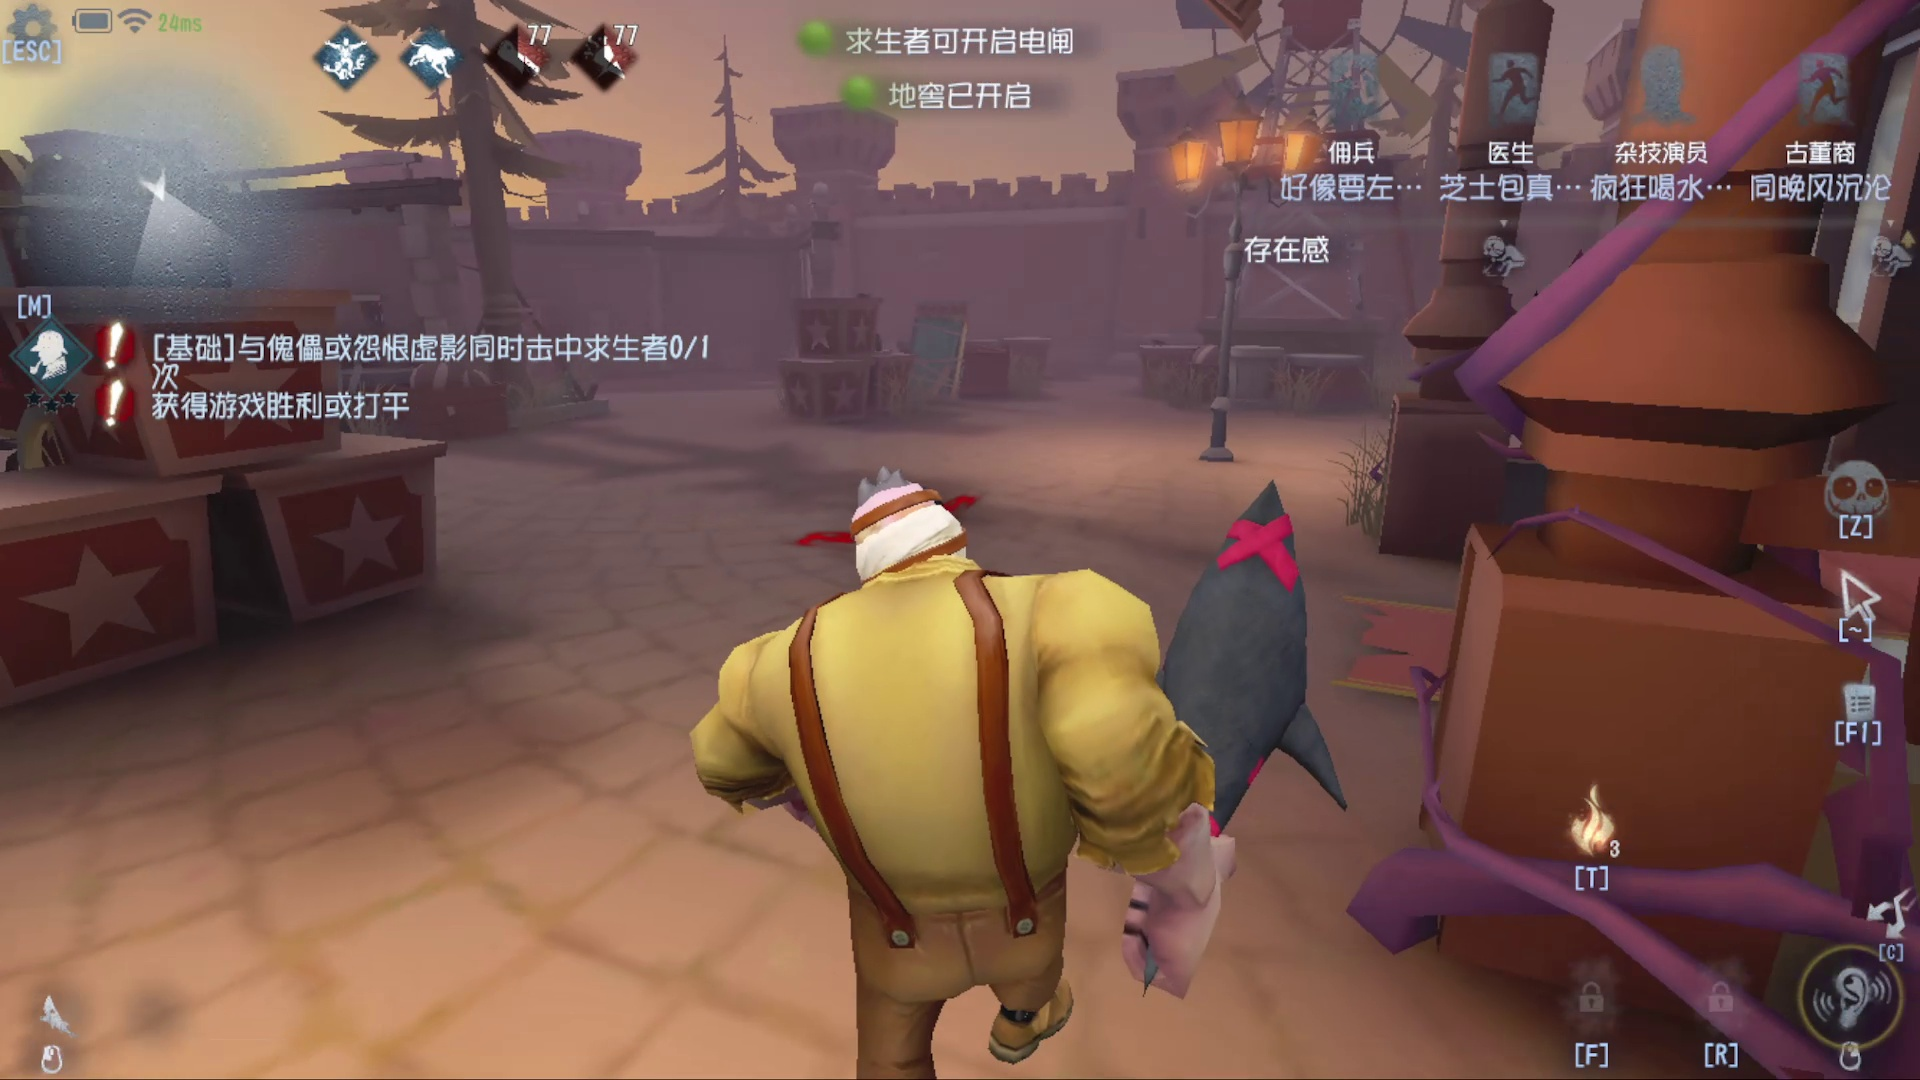木板: (890, 285, 977, 417)
